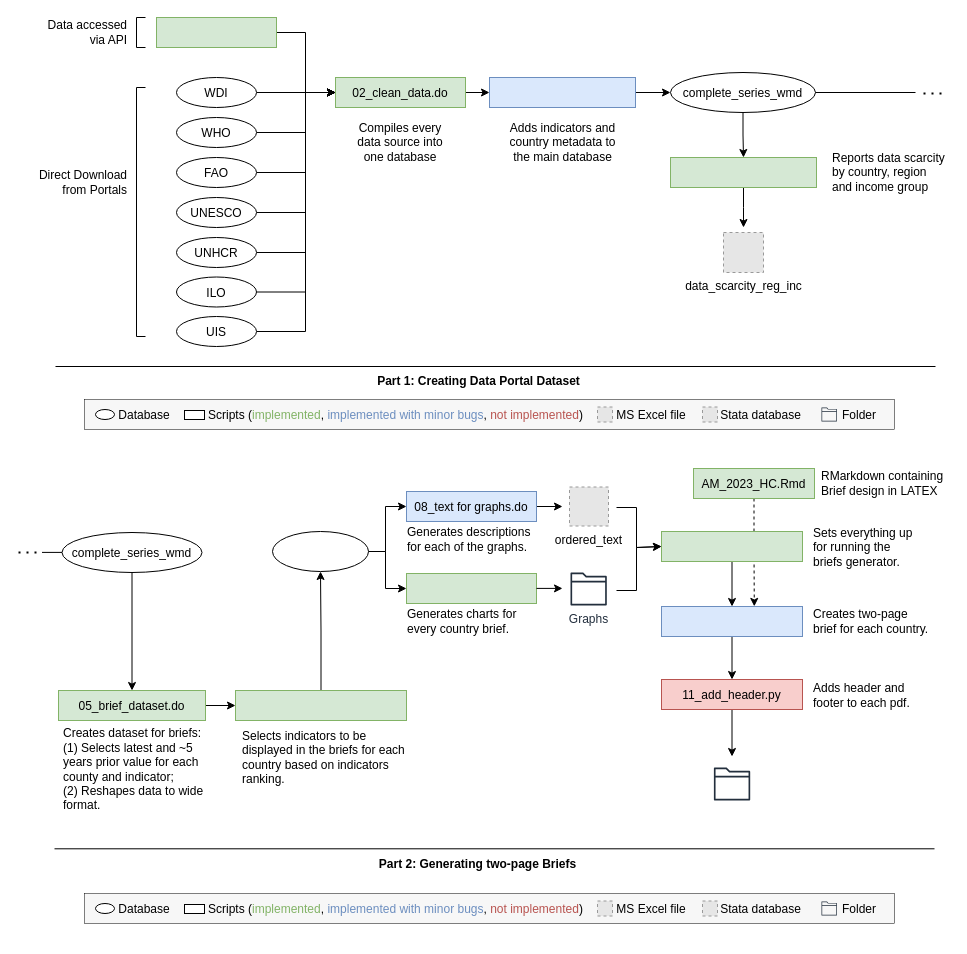
This 967x954 diagram has some shape labels left out. Grey dashed boxes stand in for pictures. The centre of each missing label's shape, as x and y in pixels:
"01_UNICEF_API.py" goes at [216,32].
"03_clean_metadata.do" goes at [562,92].
"04_missing_data.do" goes at [743,172].
"06_indicators_by_country.do" goes at [320,705].
"07_graphs.do" goes at [471,588].
"09_HC_2page_Func.R" goes at [731,546].
"10_Run_Briefs.R" goes at [731,621].
"Briefs" goes at [731,783].
"data_briefs" goes at [320,551].
